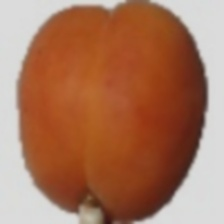apricot: (30, 37, 175, 203)
